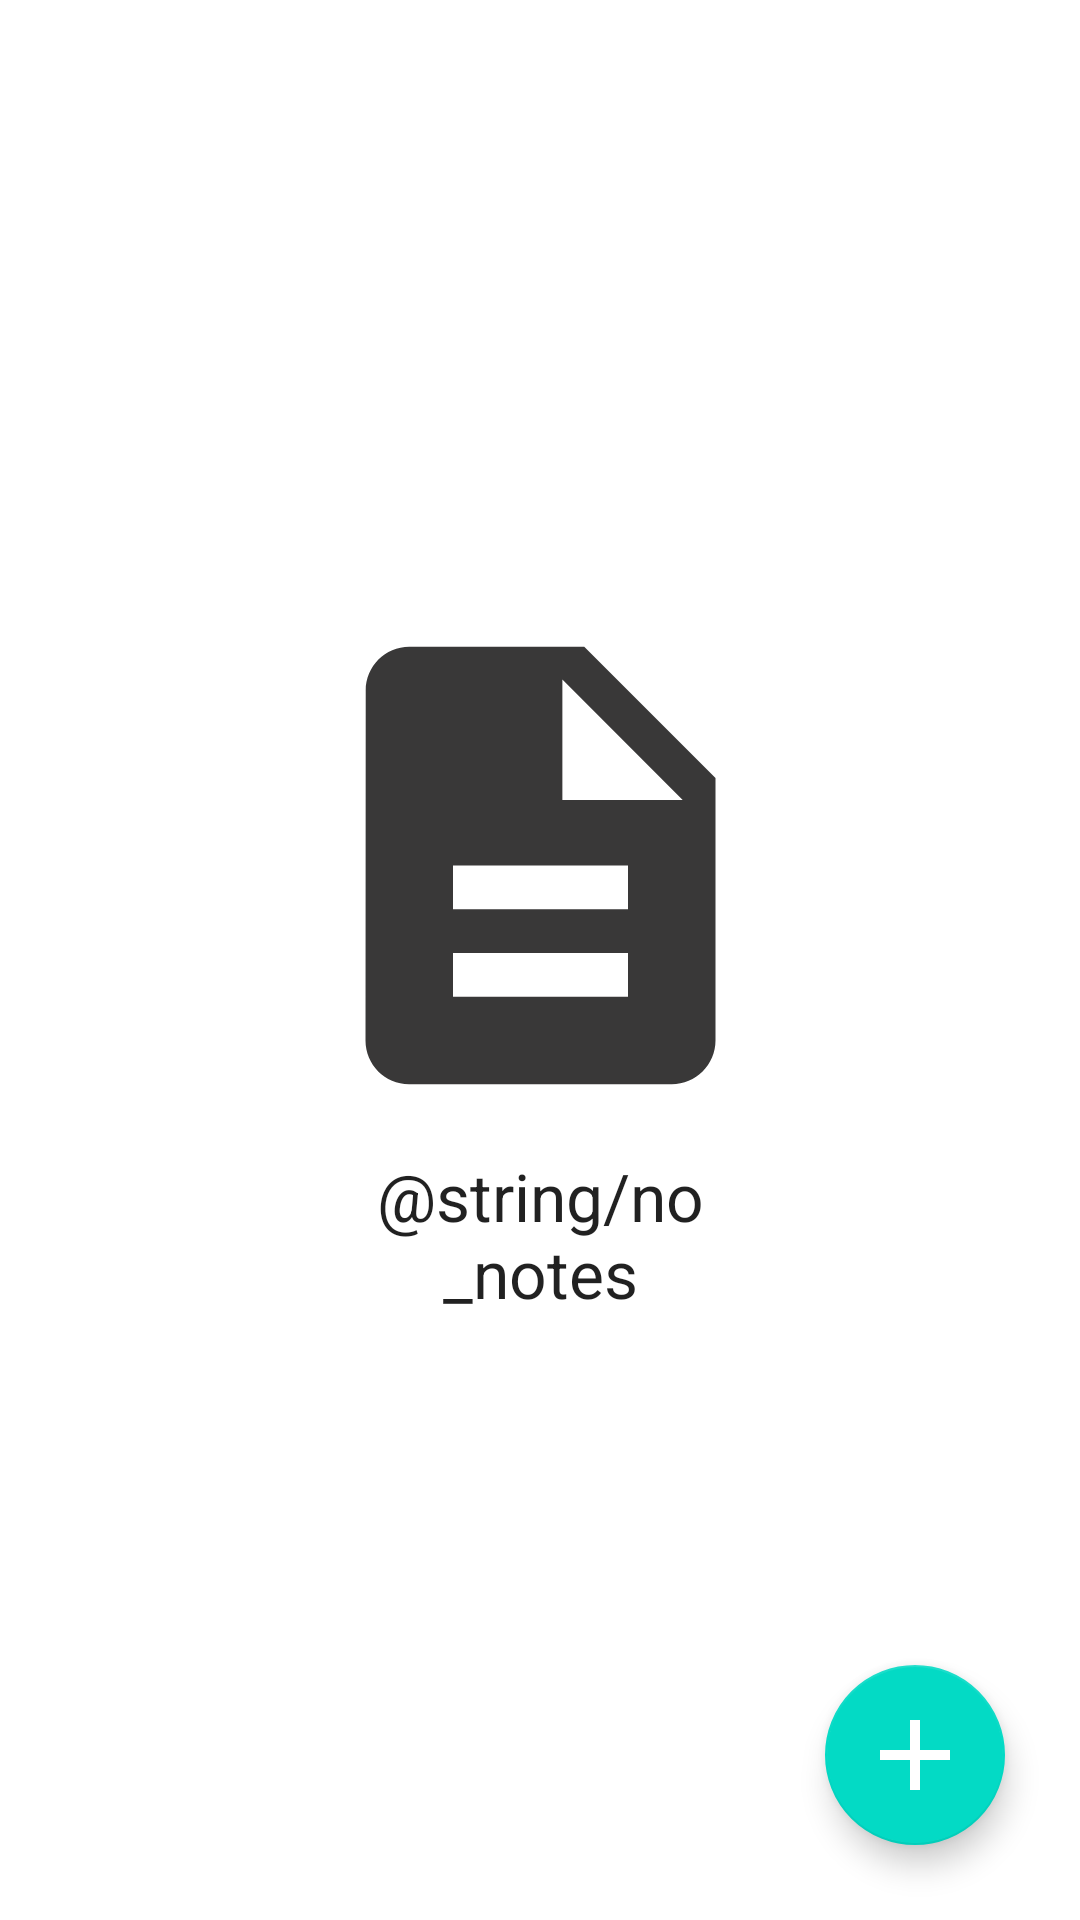

Icon click points for this 1080*1920 phone screenshot, format (x=x, y=y):
add: (x=915, y=1755)
